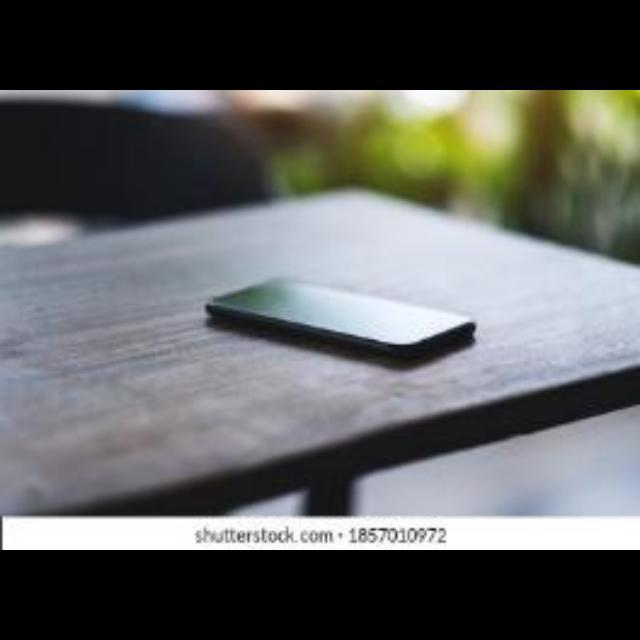Phone: (182, 280, 488, 356)
